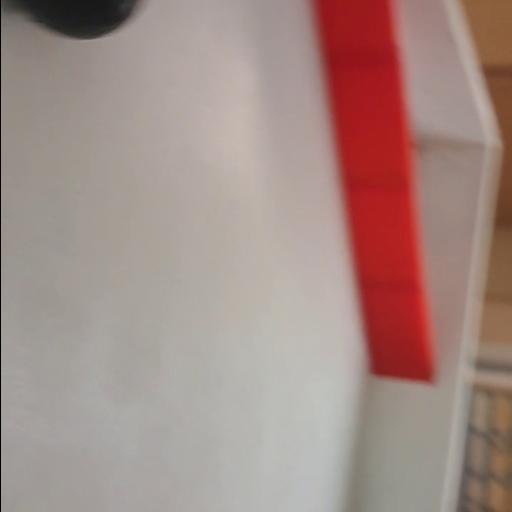dead: (9, 0, 149, 40)
